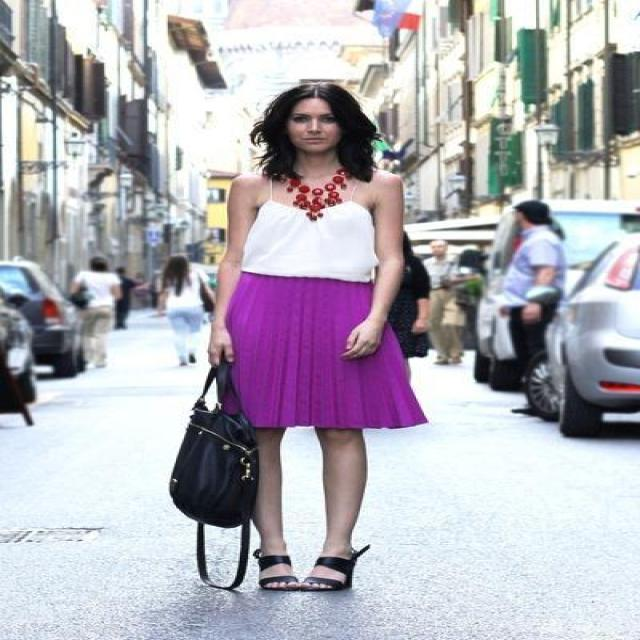bag: (170, 349, 284, 592)
shirt: (237, 192, 376, 281)
shoe: (253, 548, 363, 592)
skirt: (224, 269, 427, 439)
